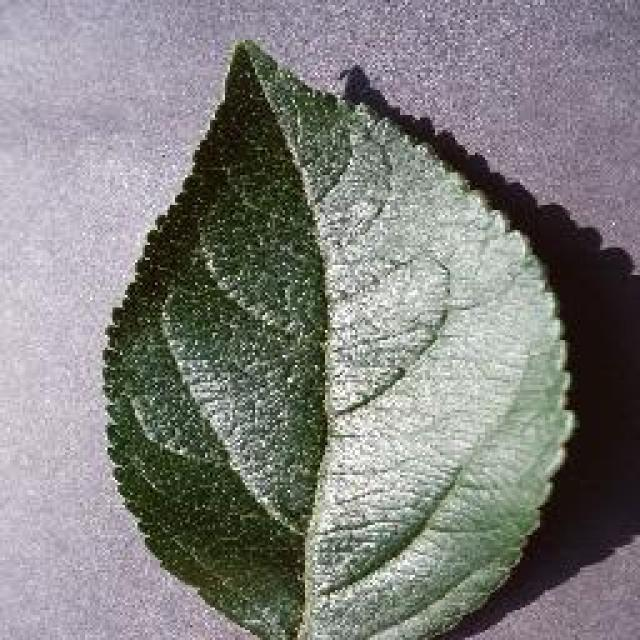apple healthy: (98, 35, 580, 637)
